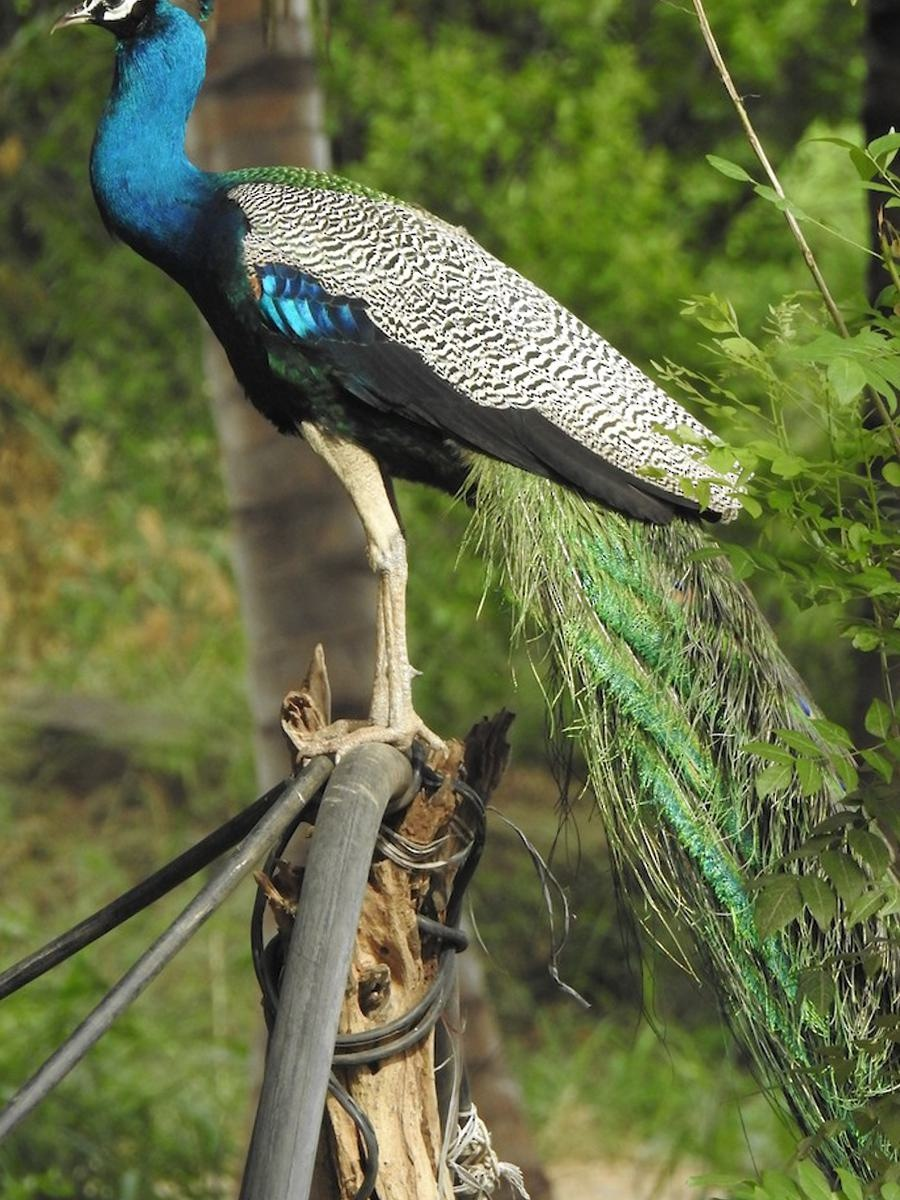peacock: (63, 12, 900, 846)
